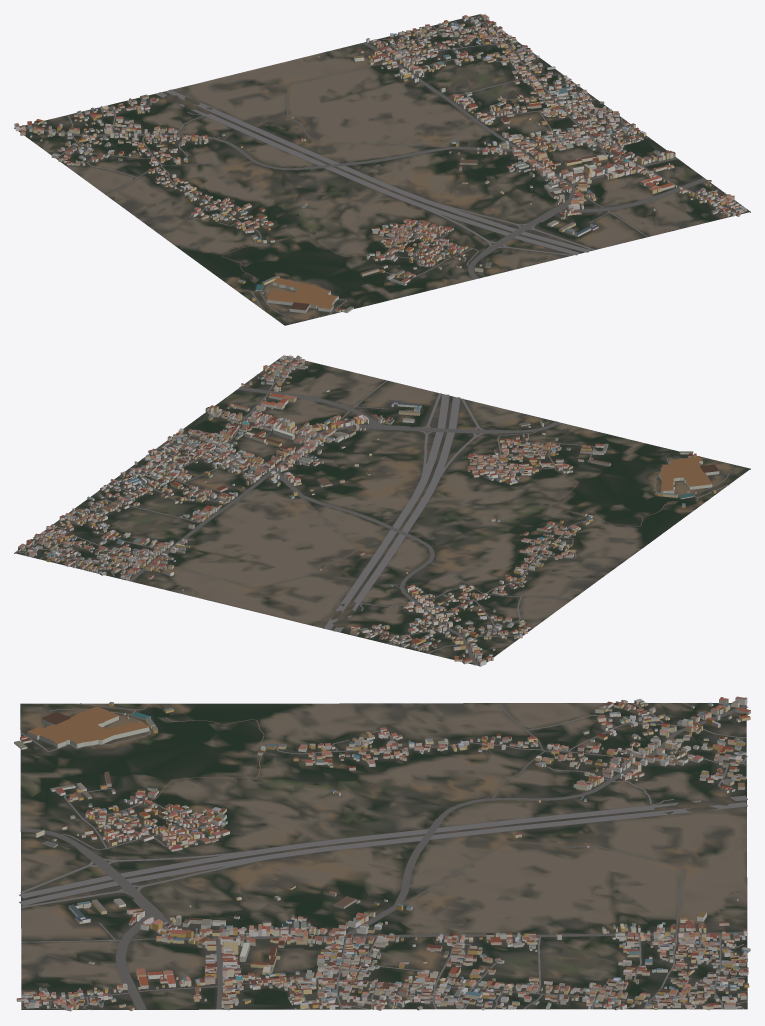
3 views of the same model, one above another, from view 1: azimuth 30°, elevation 25°; view 2: azimuth 150°, elevation 25°; view 3: azimuth 270°, elevation 25° (orthographic). The views are drawn at different scales.
Visible parts, largest first — view 1: ground, buildings, roads; view 2: ground, buildings, roads; view 3: ground, buildings, roads.
Part boxes in pixels (bbox=[...]): ground: bbox=[14, 14, 750, 325]; buildings: bbox=[14, 14, 746, 313]; roads: bbox=[19, 16, 736, 315]; ground: bbox=[14, 355, 750, 665]; buildings: bbox=[17, 355, 719, 666]; roads: bbox=[15, 358, 728, 665]; ground: bbox=[20, 703, 747, 1009]; buildings: bbox=[14, 696, 750, 1011]; roads: bbox=[19, 703, 748, 1009].
Bounding box in the file's own units: 1414 × 30.05 × 1423.
